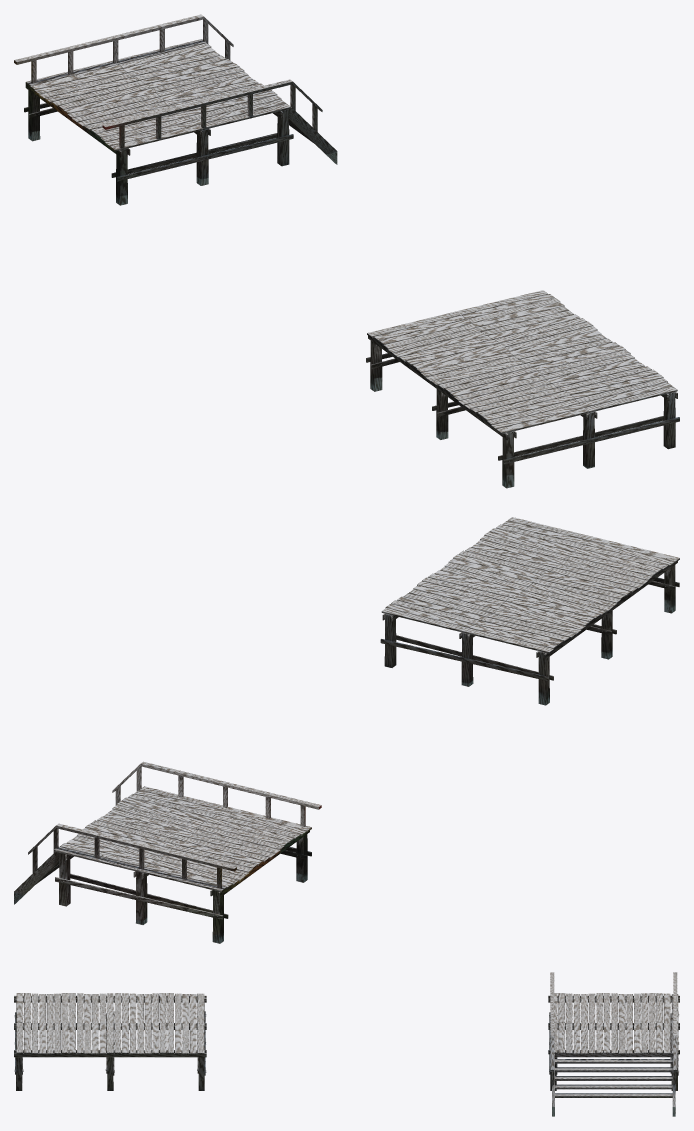
The model's file is stairs.glb.
The picture shows the model from 3 angles, top to bottom: view 1: azimuth 30°, elevation 25°; view 2: azimuth 150°, elevation 25°; view 3: azimuth 270°, elevation 25°; orthographic projection. The views are drawn at different scales.
Parts seen in each view (by area): view 1: Wooden Platforms_0, StairsPlatform.Backroom.002; view 2: Wooden Platforms_0, StairsPlatform.Backroom.002; view 3: Wooden Platforms_0, StairsPlatform.Backroom.002.
Part boxes in pixels (x1,y1,x2,y2): Wooden Platforms_0: [366, 290, 679, 488]; StairsPlatform.Backroom.002: [14, 14, 337, 205]; Wooden Platforms_0: [380, 517, 679, 705]; StairsPlatform.Backroom.002: [14, 761, 321, 943]; Wooden Platforms_0: [14, 993, 206, 1090]; StairsPlatform.Backroom.002: [548, 972, 679, 1116].
Size of the model in its own units: 7.98 by 3.12 by 28.63.
Materials: 2 (2 with a texture image).
